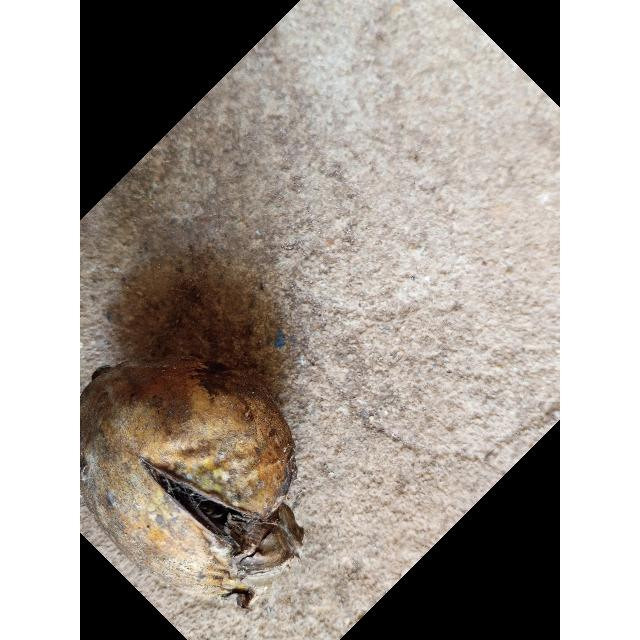damaged: (80, 357, 304, 609)
